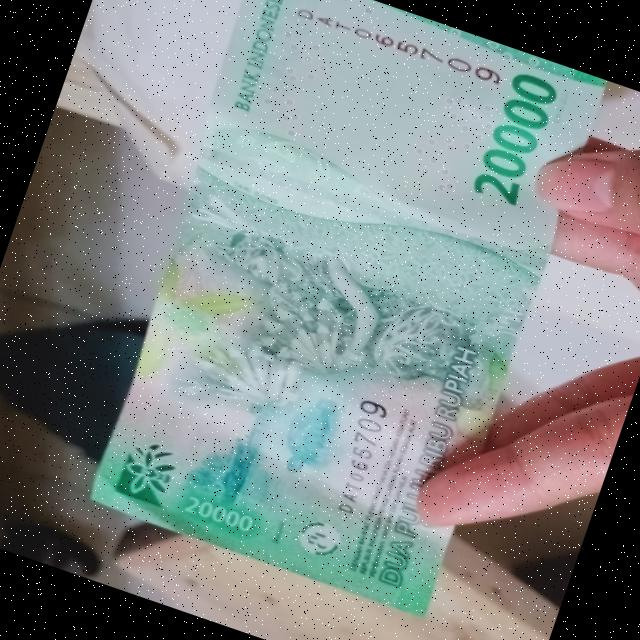20K: (69, 0, 616, 632)
